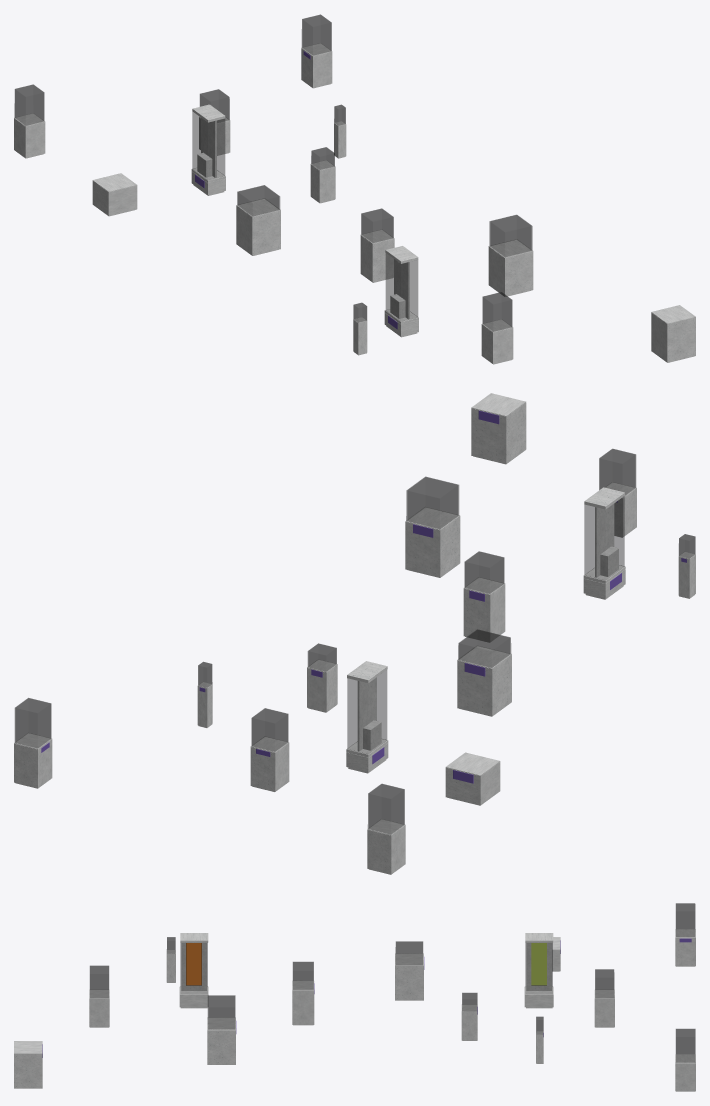
Rendered from Hall_Display_Boxes.FBX.
3 renders of one model, top to bottom at view 1: azimuth 30°, elevation 25°; view 2: azimuth 150°, elevation 25°; view 3: azimuth 270°, elevation 25°, orthographic. The views are drawn at different scales.
Parts seen in each view (by area): view 1: Hall_Display_Box_09, Hall_Display_Box_Type02_01, Hall_Display_Box_07, Hall_Display_Box_Type02_02, Hall_Display_Box_08, Hall_Display_Box_12, Hall_Display_Box_01, Hall_Display_Box_11, Hall_Display_Box_02, Hall_Display_Box_05, Hall_Display_Box_06, Hall_Display_Box_03 (+2 smaller); view 2: Hall_Display_Box_09, Hall_Display_Box_Type02_02, Hall_Display_Box_07, Hall_Display_Box_Type02_01, Hall_Display_Box_08, Hall_Display_Box_12, Hall_Display_Box_01, Hall_Display_Box_02, Hall_Display_Box_03, Hall_Display_Box_05, Hall_Display_Box_11, Hall_Display_Box_06 (+2 smaller); view 3: Hall_Display_Box_Type02_01, Hall_Display_Box_Type02_02, Hall_Display_Box_09, Hall_Display_Box_07, Hall_Display_Box_08, Hall_Display_Box_12, Hall_Display_Box_01, Hall_Display_Box_02, Hall_Display_Box_11, Hall_Display_Box_03, Hall_Display_Box_06, Hall_Display_Box_10 (+2 smaller).
Boxes of the visible parts, x1,y1,x2,y2 form: Hall_Display_Box_09: (488, 215, 533, 296); Hall_Display_Box_Type02_01: (191, 104, 225, 195); Hall_Display_Box_07: (236, 185, 280, 255); Hall_Display_Box_Type02_02: (384, 246, 418, 337); Hall_Display_Box_08: (360, 208, 394, 282); Hall_Display_Box_12: (651, 305, 695, 362); Hall_Display_Box_01: (14, 84, 45, 158); Hall_Display_Box_11: (481, 292, 513, 364); Hall_Display_Box_02: (301, 14, 332, 88); Hall_Display_Box_05: (92, 173, 137, 216); Hall_Display_Box_06: (310, 147, 335, 203); Hall_Display_Box_03: (199, 89, 230, 155); Hall_Display_Box_09: (405, 476, 460, 577); Hall_Display_Box_Type02_02: (583, 487, 625, 599); Hall_Display_Box_07: (457, 629, 511, 716); Hall_Display_Box_Type02_01: (346, 661, 388, 773); Hall_Display_Box_08: (463, 551, 505, 642); Hall_Display_Box_12: (471, 393, 526, 464); Hall_Display_Box_01: (367, 784, 405, 874); Hall_Display_Box_02: (14, 698, 52, 788); Hall_Display_Box_03: (250, 708, 289, 791); Hall_Display_Box_05: (445, 752, 500, 805); Hall_Display_Box_11: (599, 449, 636, 537); Hall_Display_Box_06: (307, 643, 337, 712); Hall_Display_Box_Type02_01: (524, 933, 553, 1008); Hall_Display_Box_Type02_02: (179, 933, 208, 1008); Hall_Display_Box_09: (207, 995, 236, 1064); Hall_Display_Box_07: (395, 941, 424, 1000); Hall_Display_Box_08: (292, 962, 314, 1025); Hall_Display_Box_12: (14, 1041, 42, 1088); Hall_Display_Box_01: (675, 903, 695, 966); Hall_Display_Box_02: (675, 1029, 695, 1091); Hall_Display_Box_11: (89, 965, 109, 1027); Hall_Display_Box_03: (594, 969, 614, 1027); Hall_Display_Box_06: (461, 993, 477, 1040); Hall_Display_Box_10: (166, 937, 175, 982).
Size of the model in its own units: 11692 by 2781 by 25174.
7 materials, 1 textured.
